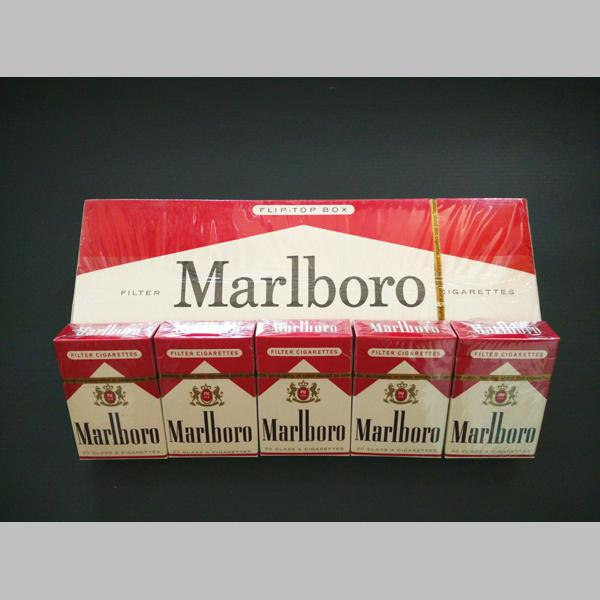marlboro_red: (160, 337, 255, 459), (254, 337, 351, 456), (451, 341, 546, 461), (352, 339, 447, 456), (72, 344, 159, 459)
